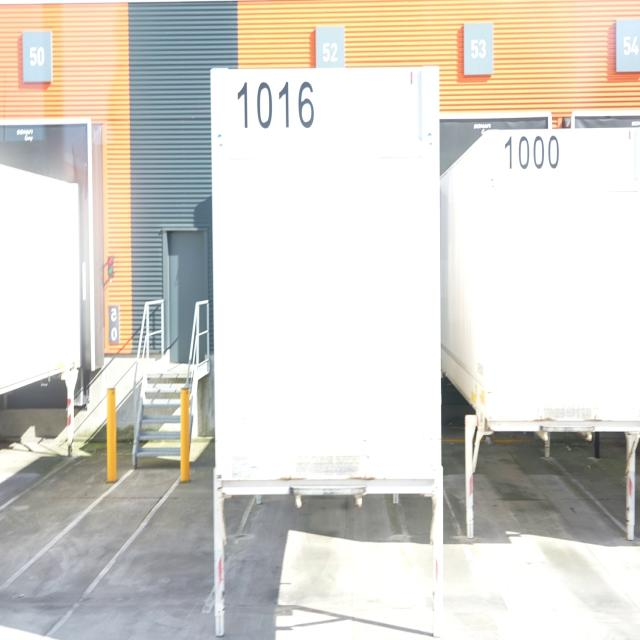Code: (235, 74, 321, 136), (504, 129, 564, 174)
